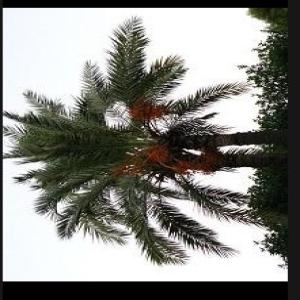palm tree: (3, 14, 286, 266)
